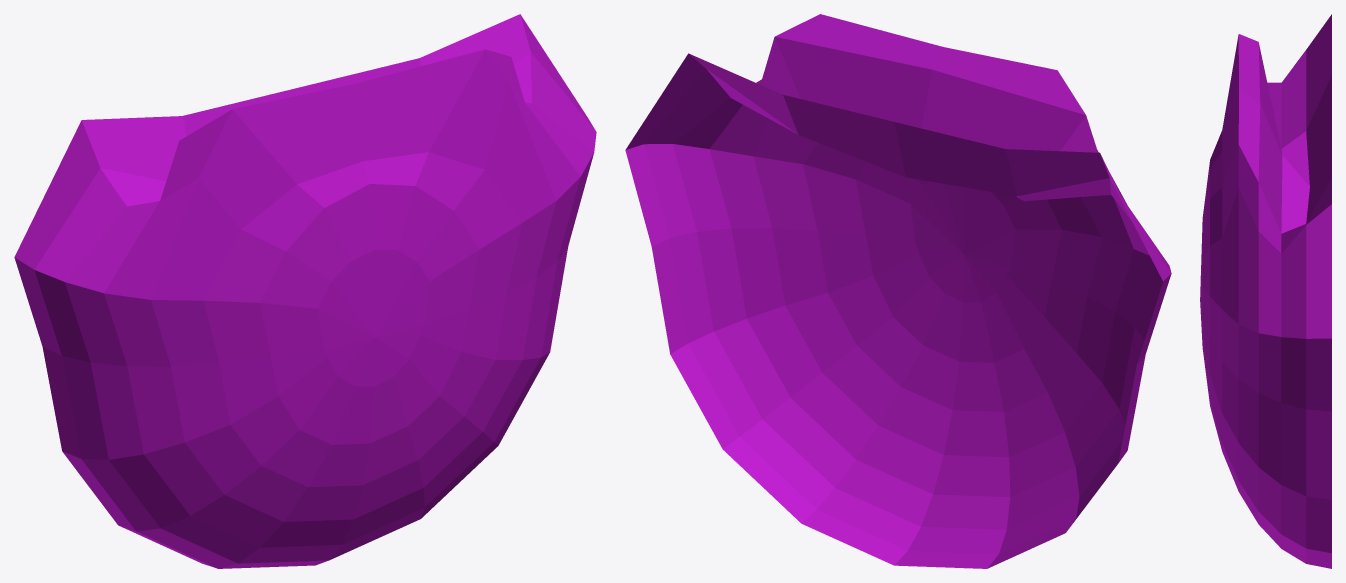
Rendered from jug2_center.obj.
3 renders of one model, left to right at view 1: azimuth 30°, elevation 25°; view 2: azimuth 150°, elevation 25°; view 3: azimuth 270°, elevation 25°, orthographic. The views are drawn at different scales.
Parts seen in each view (by area): view 1: Jug2; view 2: Jug2; view 3: Jug2.
Boxes of the visible parts, <box> form: Jug2: <box>14,14,596,568</box>; Jug2: <box>625,14,1171,568</box>; Jug2: <box>1200,14,1331,568</box>.
Size of the model in its own units: 0.2217 by 0.1919 by 0.05.
